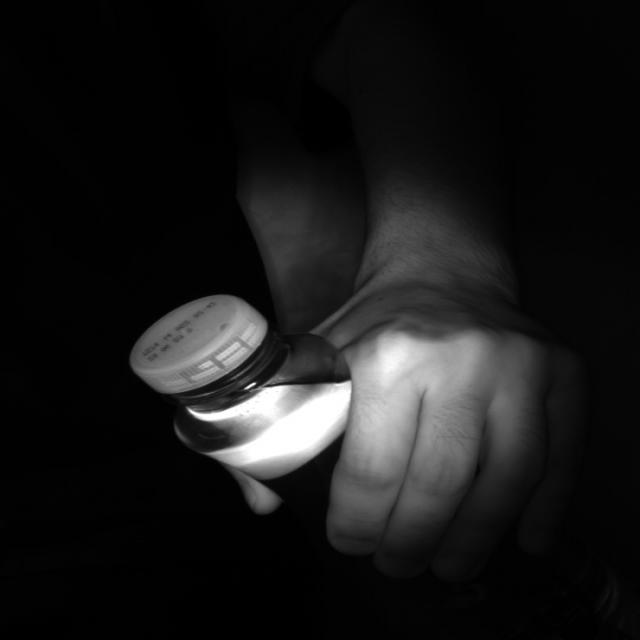Not Good: (130, 294, 286, 404)
